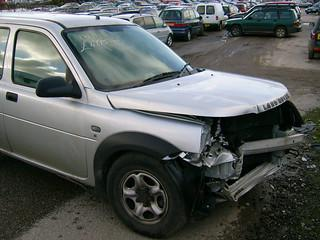bonnet-dent: (101, 69, 292, 119)
front-bumper-dent: (195, 116, 298, 181)
